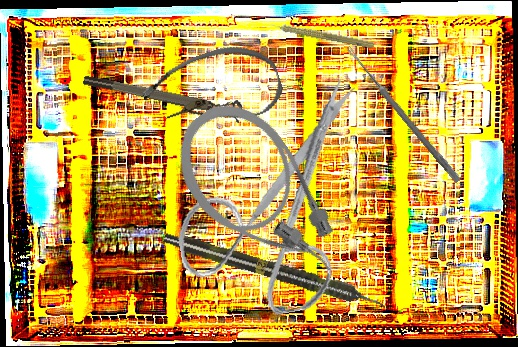Cannula: (157, 85, 360, 310), (136, 33, 289, 148)
Fixation Ring: (82, 65, 244, 124)
Handpiece: (161, 228, 389, 315), (262, 16, 376, 51)
Iris Scissors: (155, 76, 392, 330)
Surgical Spoon: (344, 44, 462, 184)
